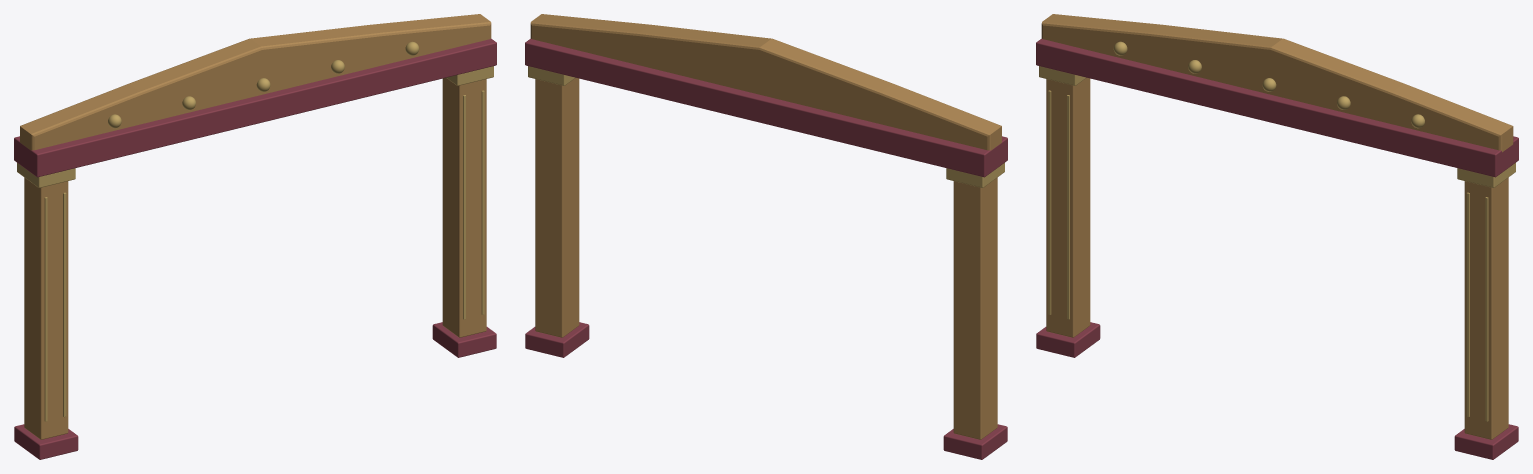
The model's file is abandoned-puppet-theatre-and-prop-vault-proscenium-arc-f29b5a43__31055.glb.
3 views of the same model, side by side, from view 1: azimuth 30°, elevation 25°; view 2: azimuth 150°, elevation 25°; view 3: azimuth 330°, elevation 25° (orthographic).
Visible parts, largest first — view 1: proscenium-arch; view 2: proscenium-arch; view 3: proscenium-arch.
Boxes of the visible parts, left/top/right/bottom form: proscenium-arch: left=14, top=14, right=496, bottom=459; proscenium-arch: left=525, top=14, right=1007, bottom=459; proscenium-arch: left=1036, top=14, right=1518, bottom=459.
Bounding box in the file's own units: 4.95 × 3.63 × 0.4798.
